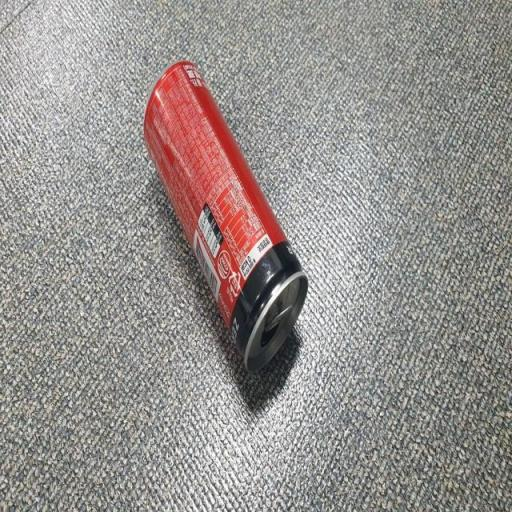metal: (136, 46, 317, 406)
